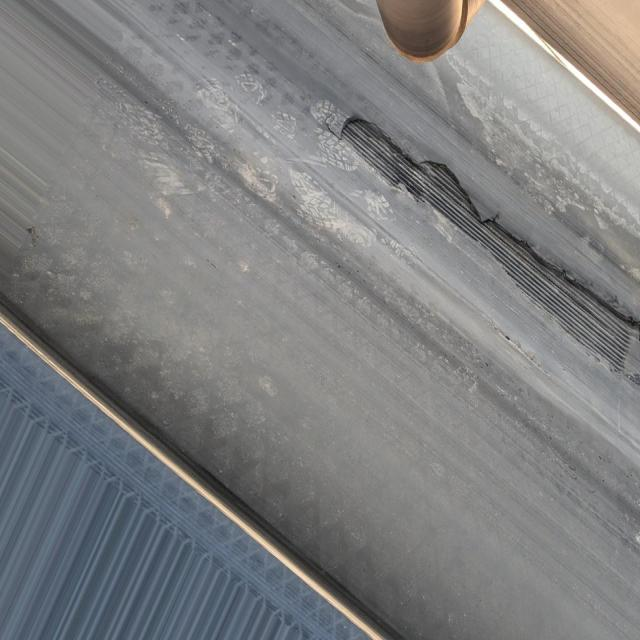Roller: (373, 0, 481, 65)
Tear: (333, 76, 640, 399)
